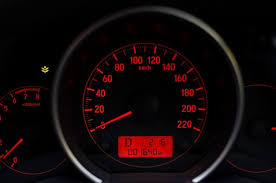Digital_Meter: (117, 134, 180, 159)
